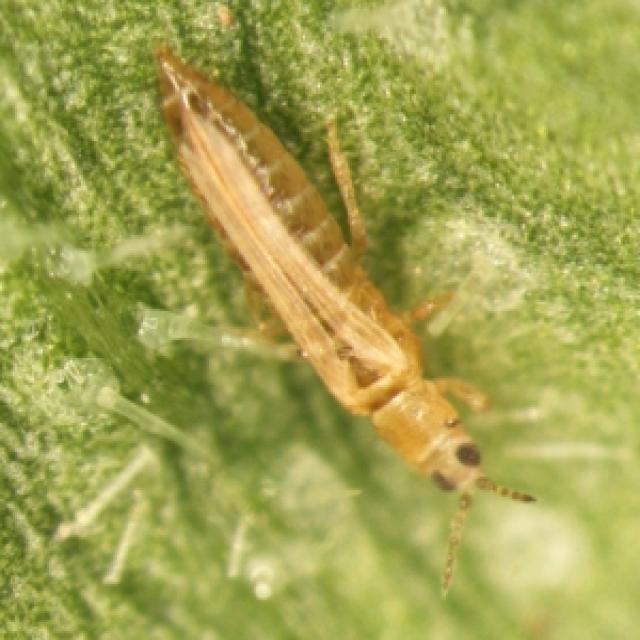Thrip-Adult-: (134, 46, 549, 568)
